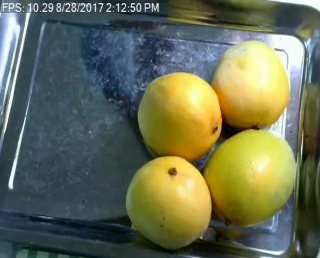Mango: (203, 128, 295, 226), (124, 156, 213, 250), (138, 72, 222, 162), (212, 40, 291, 131)
